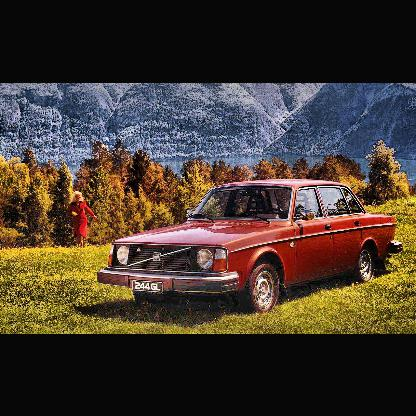Volvo 240 Sedan 1993: (93, 178, 406, 321)
